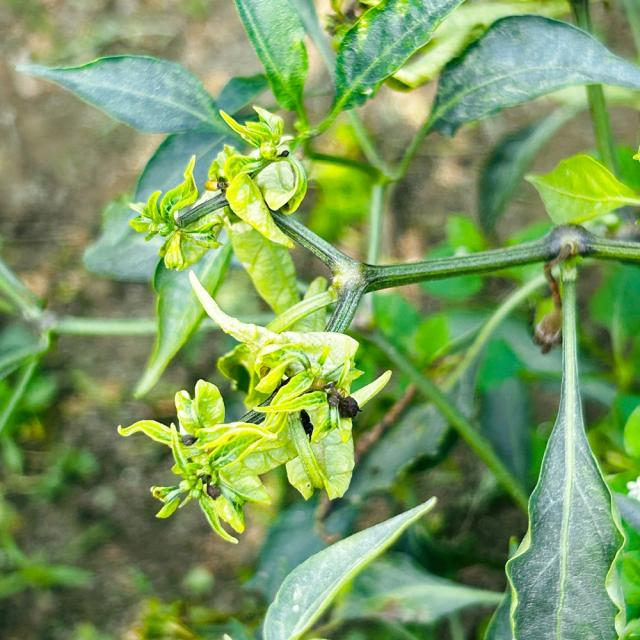Chilli_Leaf_Curl: (14, 0, 638, 638), (116, 269, 392, 544), (487, 254, 634, 638), (128, 105, 308, 271), (423, 12, 639, 139), (117, 378, 277, 544), (259, 494, 438, 638), (15, 52, 230, 137), (327, 0, 465, 114), (205, 105, 308, 249), (127, 153, 226, 271), (232, 0, 311, 128), (523, 151, 639, 227)
